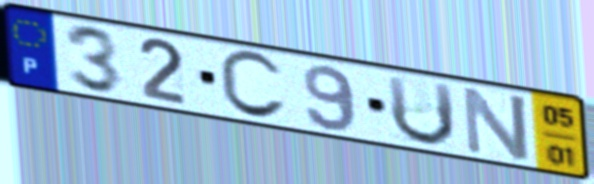2: (137, 36, 188, 108)
3: (62, 24, 125, 95)
9: (300, 62, 360, 133)
C: (216, 48, 291, 122)
N: (460, 83, 533, 164)
U: (383, 72, 459, 149)
